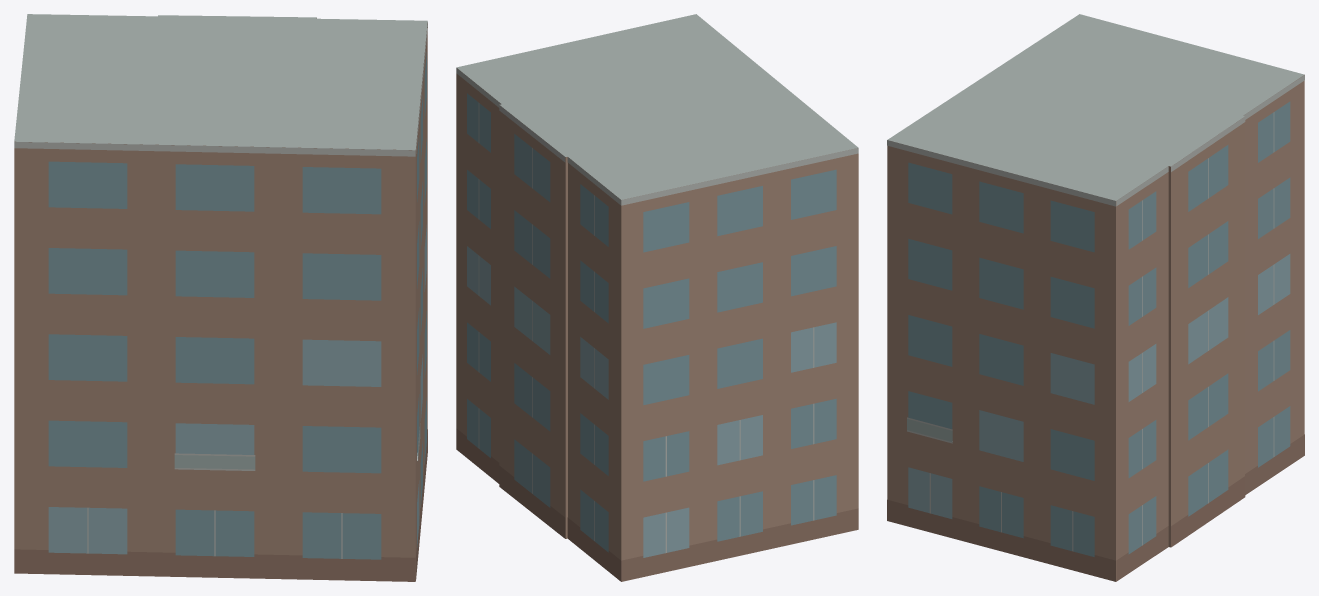
Rendered from survey-upis-32672388.glb.
3 renders of one model, left to right at view 1: azimuth 30°, elevation 25°; view 2: azimuth 150°, elevation 25°; view 3: azimuth 270°, elevation 25°, orthographic. The views are drawn at different scales.
Parts seen in each view (by area): view 1: survey-upis-32672388.tmp; view 2: survey-upis-32672388.tmp; view 3: survey-upis-32672388.tmp.
Boxes of the visible parts, box(x1,y1,x2,y2) form: survey-upis-32672388.tmp: box(14, 14, 427, 581); survey-upis-32672388.tmp: box(456, 14, 858, 581); survey-upis-32672388.tmp: box(887, 14, 1304, 581).
Bounding box in the file's own units: 17.17 × 16.3 × 16.2.
